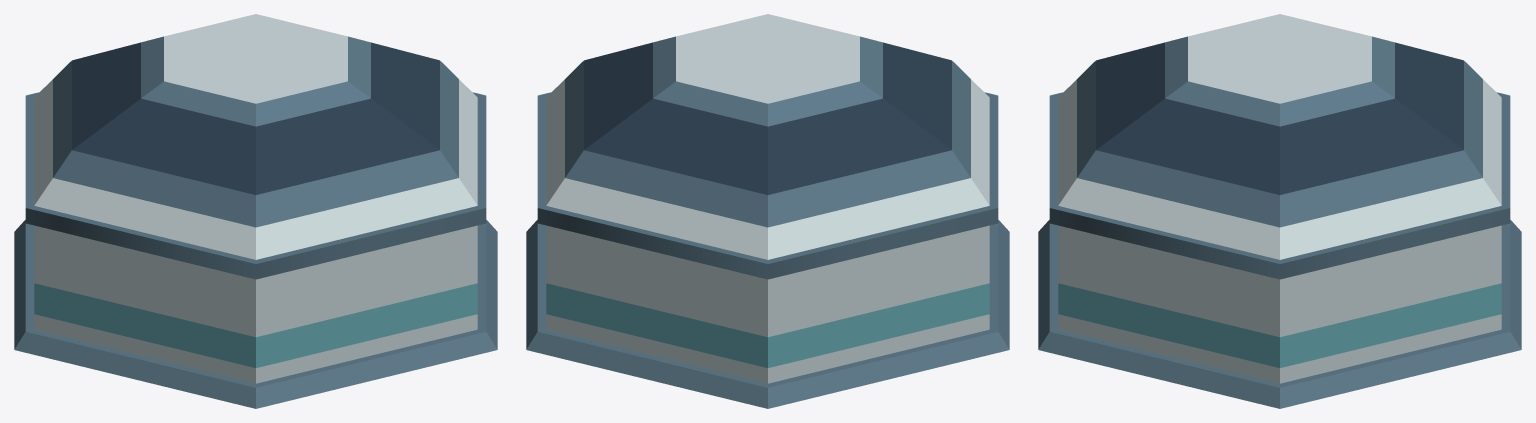
File: hangar_roundA.glb
3 views of the same model, side by side, from view 1: azimuth 30°, elevation 25°; view 2: azimuth 150°, elevation 25°; view 3: azimuth 270°, elevation 25° (orthographic).
Parts seen in each view (by area): view 1: hangar_roundA; view 2: hangar_roundA; view 3: hangar_roundA.
Boxes of the visible parts, x1=… form: hangar_roundA: x1=14, y1=14, x2=497, y2=408; hangar_roundA: x1=526, y1=14, x2=1009, y2=408; hangar_roundA: x1=1038, y1=14, x2=1521, y2=408.
Bounding box in the file's own units: 3.27 × 1.5 × 2.83.
